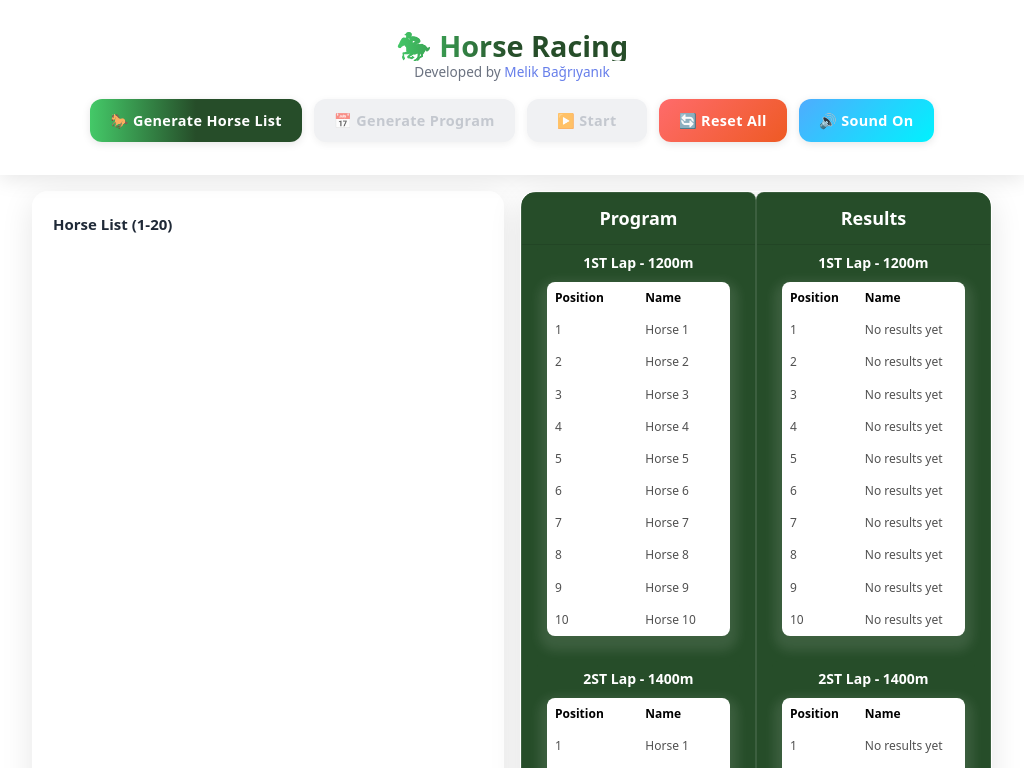
Test: Horse Racing E2E Testleri › Yarış Simülasyonu › yarış sonuçları görünmeli
Step 1. Click the button "🐎 Generate Horse List" → (197,121), box [91, 99, 302, 142]
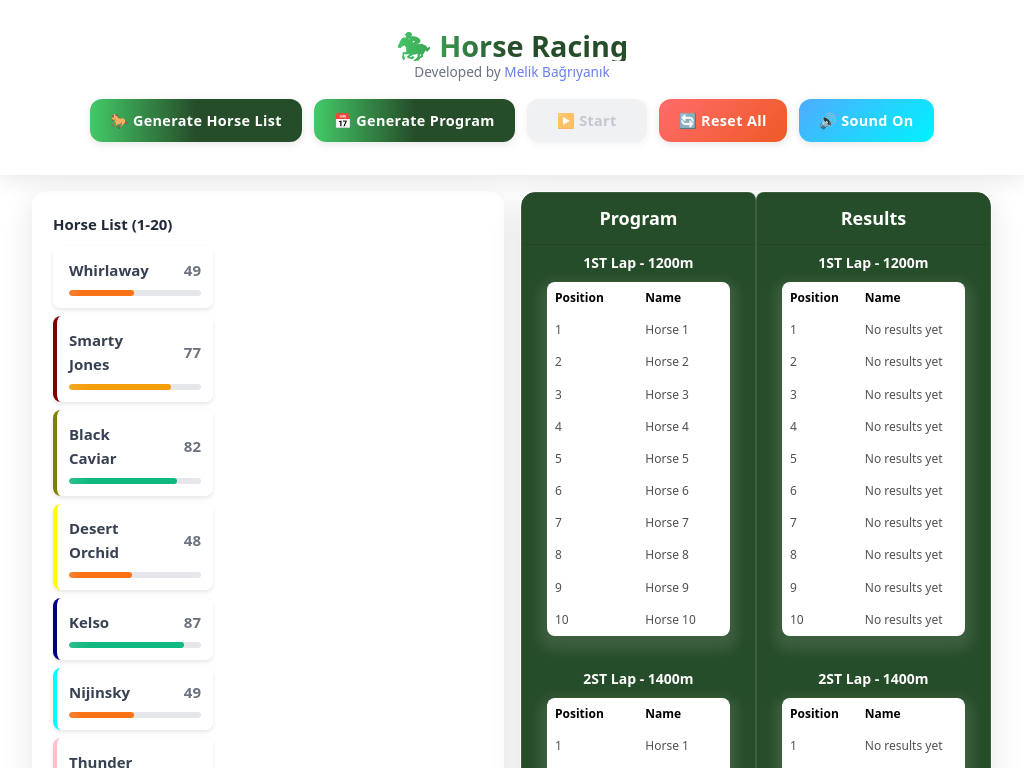
Step 2. Click the button "📅 Generate Program" → (415,121), box [314, 99, 515, 142]
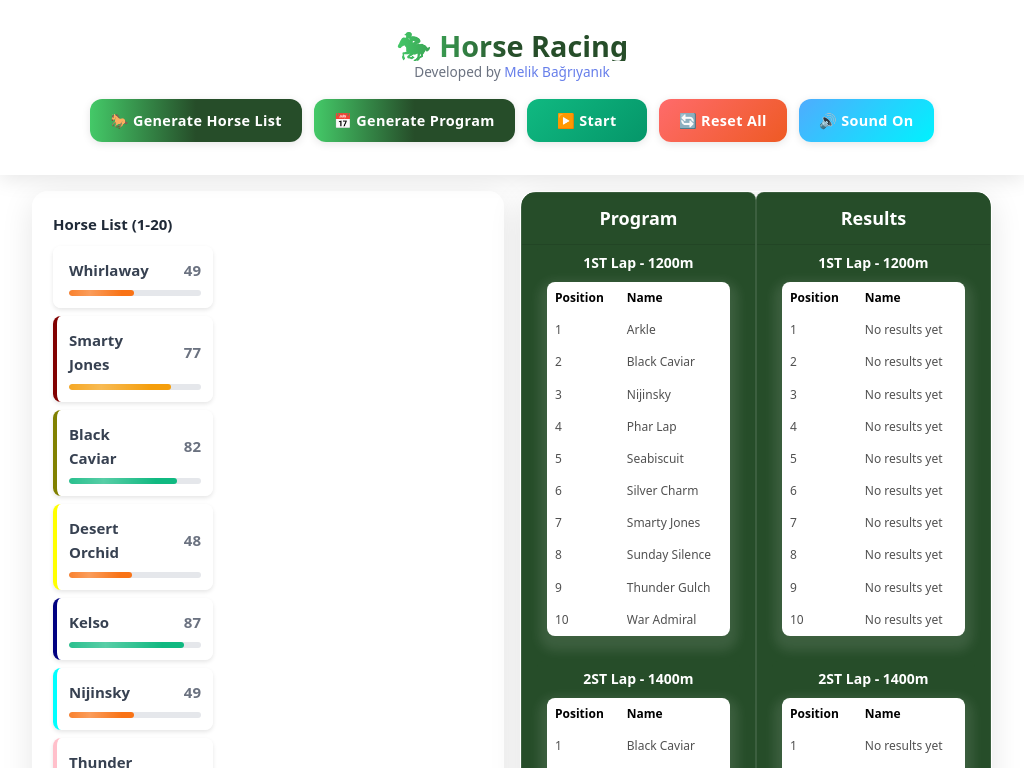
Step 3. Click the button "▶️ Start" → (587,121), box [527, 99, 647, 142]
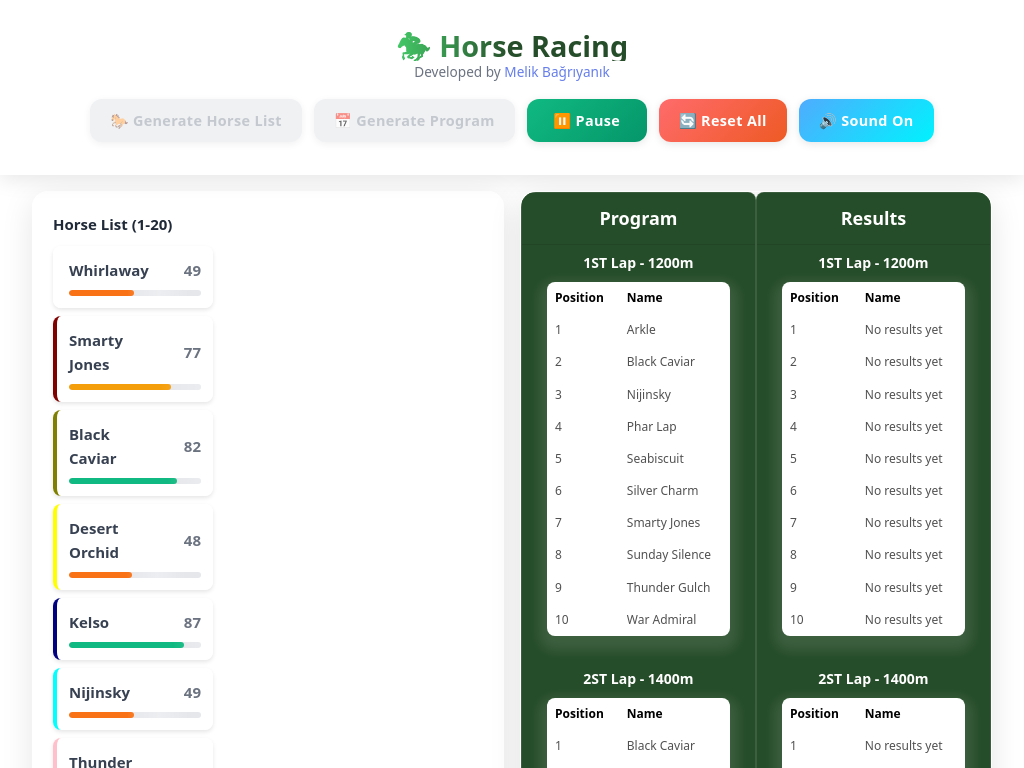
Expected: the element with class "results-panel" is shown, [756, 192, 991, 767]
Now the button "⏸️ Pause" is shown, box [527, 98, 647, 142]
